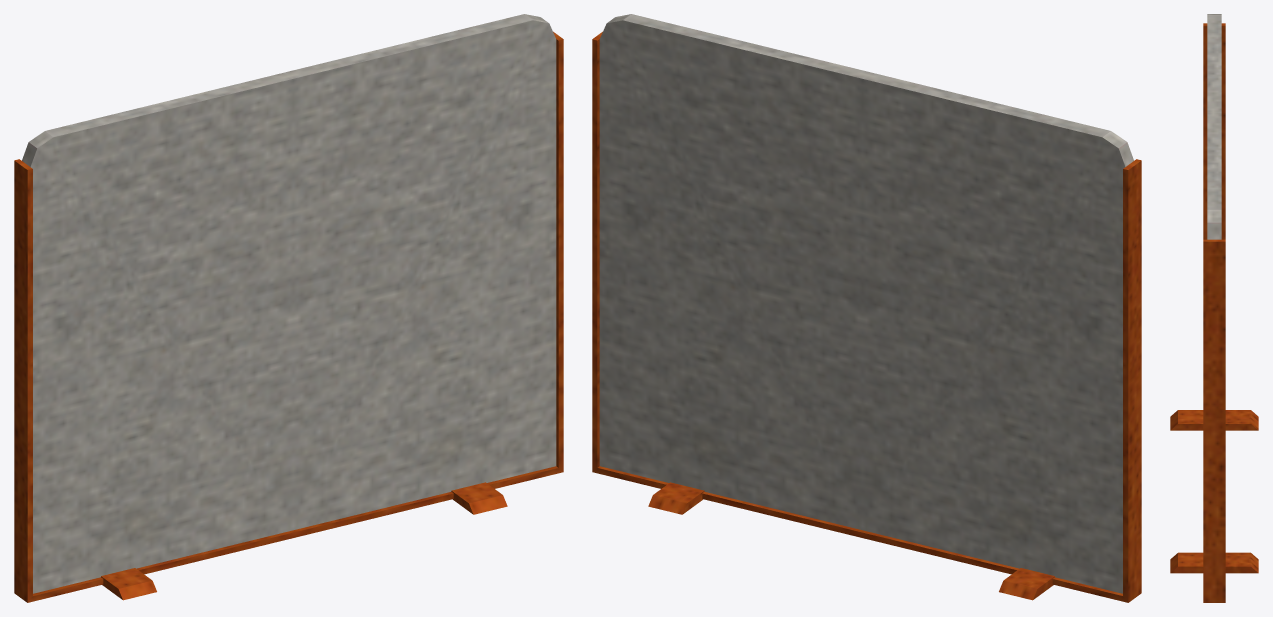
File: divider_veneer.fbx
3 views of the same model, side by side, from view 1: azimuth 30°, elevation 25°; view 2: azimuth 150°, elevation 25°; view 3: azimuth 270°, elevation 25° (orthographic). The views are drawn at different scales.
Parts seen in each view (by area): view 1: divider_veneer; view 2: divider_veneer; view 3: divider_veneer.
Boxes of the visible parts, left/top/right/bottom form: divider_veneer: left=14, top=14, right=563, bottom=602; divider_veneer: left=592, top=14, right=1141, bottom=602; divider_veneer: left=1170, top=14, right=1258, bottom=602.
Bounding box in the file's own units: 306 × 250 × 52.3.
Materials: 1 (1 with a texture image).
